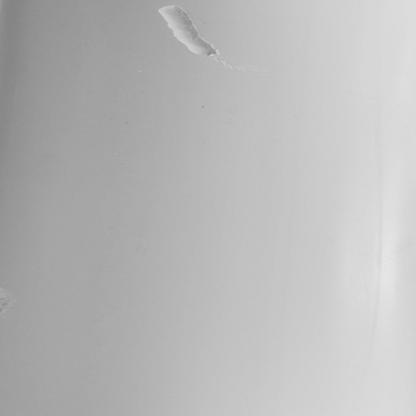sunshang: (157, 5, 224, 62)
